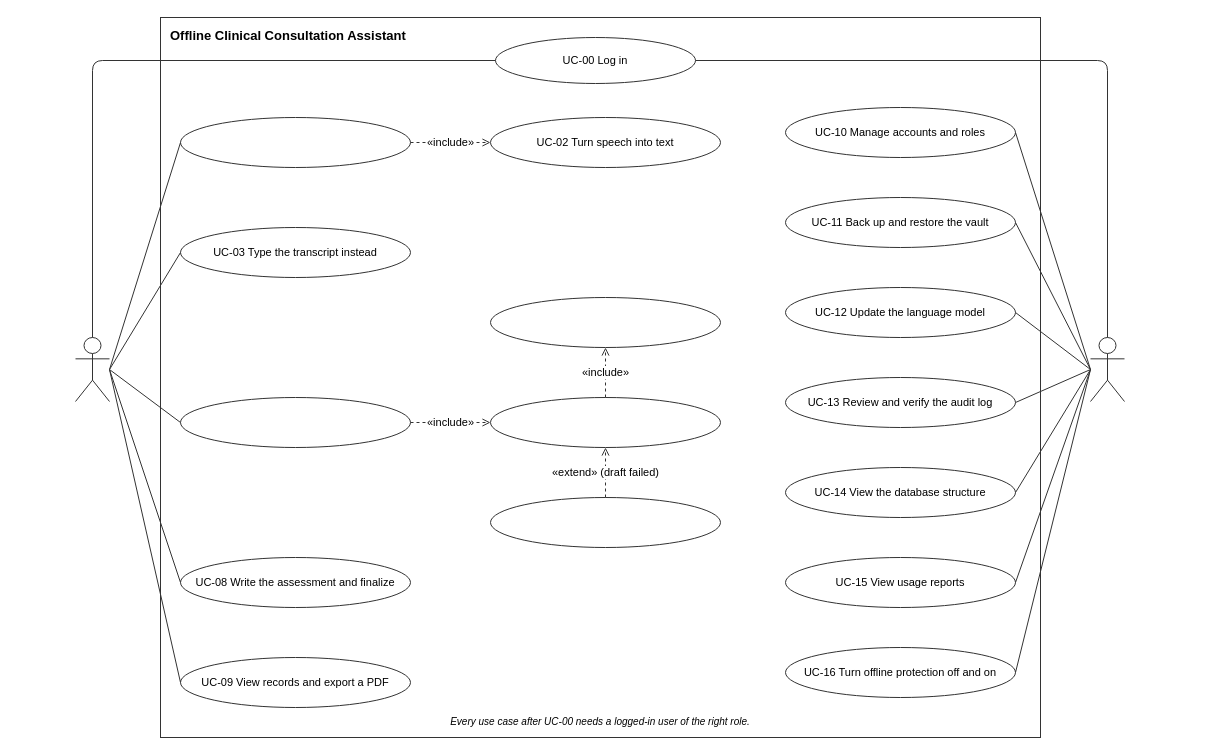
This 1228x755 diagram has some shape labels left out. The shapes that lost their labels are listed below. From the top down, each one's centre as x and y in pixels, then its label:
point (295, 142): UC-01 Record the consultation
point (605, 322): UC-06 Screen the transcript
point (92, 369): Clinician
point (1107, 369): Administrator
point (295, 422): UC-04 Review and approve the transcript
point (605, 422): UC-05 Draft the note and suggestions
point (605, 522): UC-07 Write the note by hand
